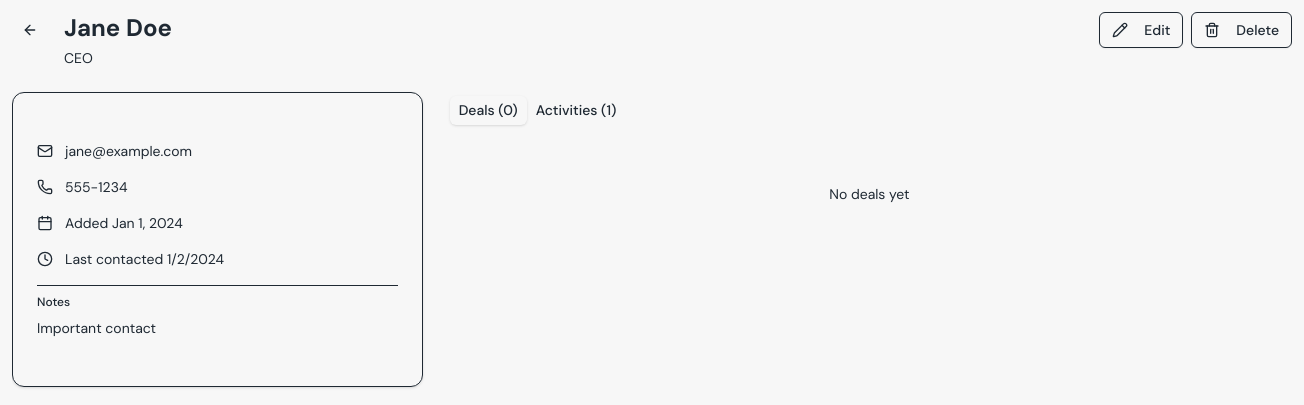
Test: ContactDetailPage › renders activities content when there are activities
The image size is (1304, 405).
Check: the heading "Jane Doe" is shown, box top-left (64, 12), bottom-right (172, 43)
Click the tab "Activities (1)". click: (576, 110)
box: top-left (527, 96), bottom-right (625, 124)
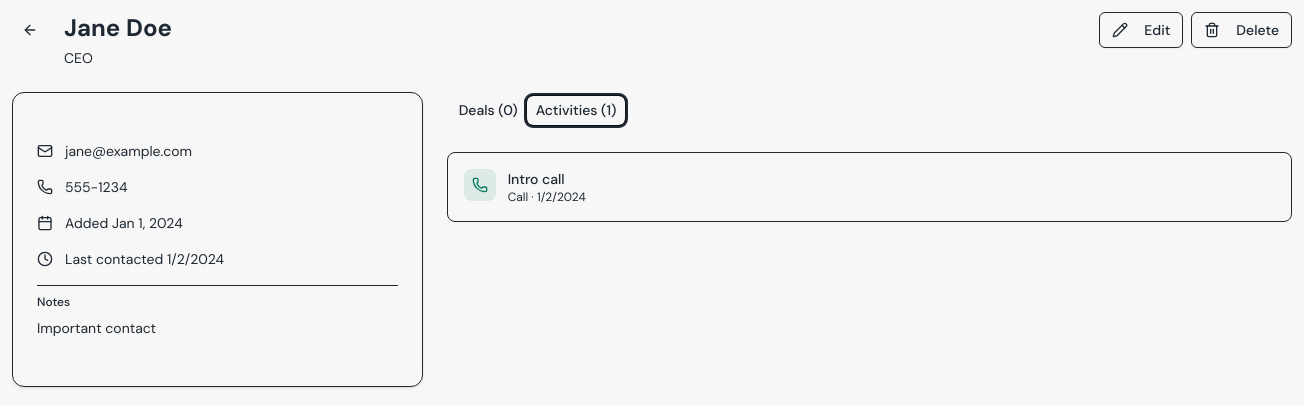
Check: the text "Intro call" is shown, box top-left (508, 170), bottom-right (565, 188)
